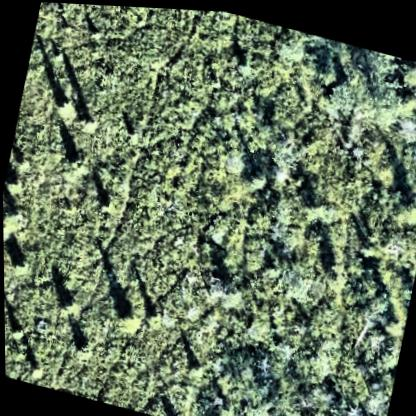tree-top: (310, 250, 355, 294), (206, 267, 245, 305), (236, 152, 268, 190), (110, 301, 142, 336), (295, 187, 325, 221), (63, 144, 94, 176), (51, 287, 83, 318), (66, 332, 95, 362), (51, 90, 79, 118), (4, 249, 28, 275)
